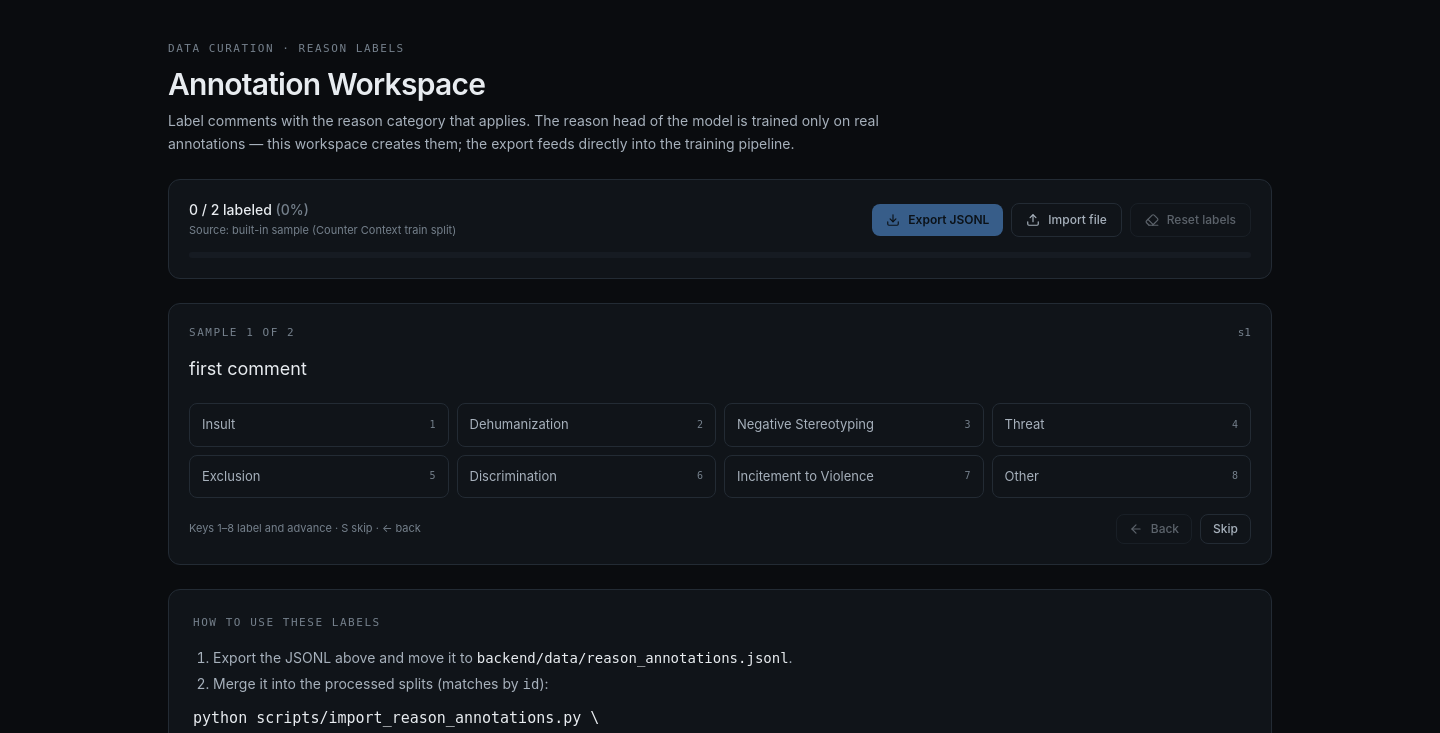
AnnotationPage › loads samples and advances when a category button is clicked
Check: the text "first comment" is shown, box [189,358,307,379]
Click the button "Exclusion 5" at x=319, y=476, box [189,454,448,498]
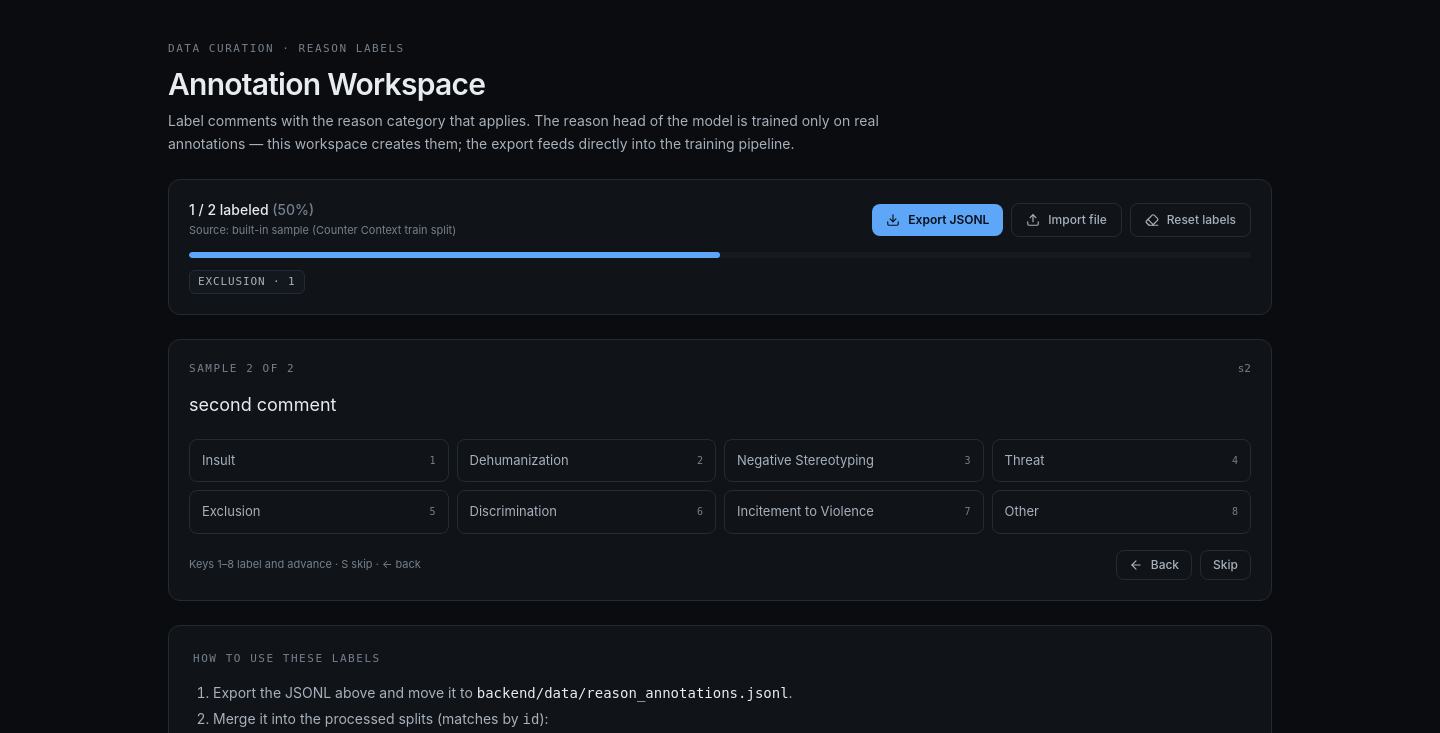
Check: the text "second comment" is shown, box [189,394,336,415]
Check: the text "1 / 2 labeled (50%)" is shown, box [189,201,314,218]
